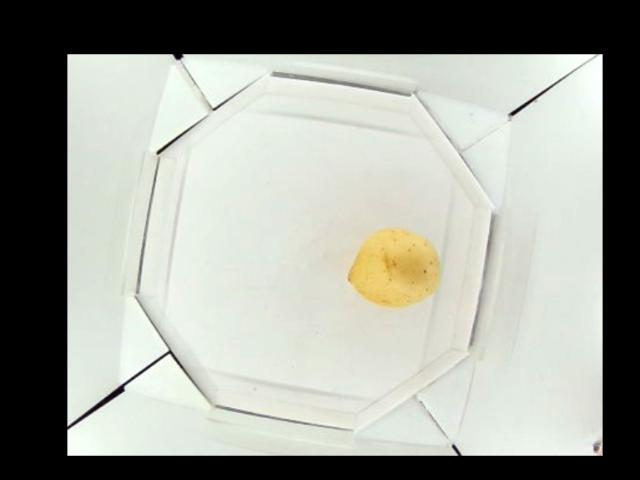Potato: (345, 225, 445, 307)
